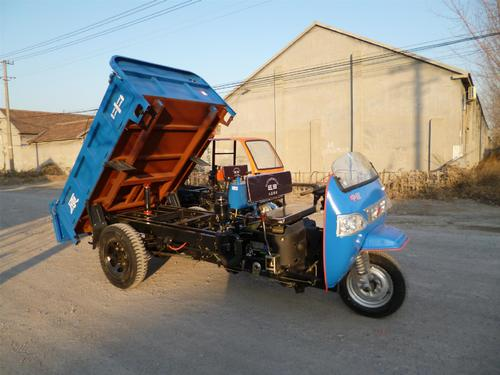tricycle: (40, 86, 420, 324)
